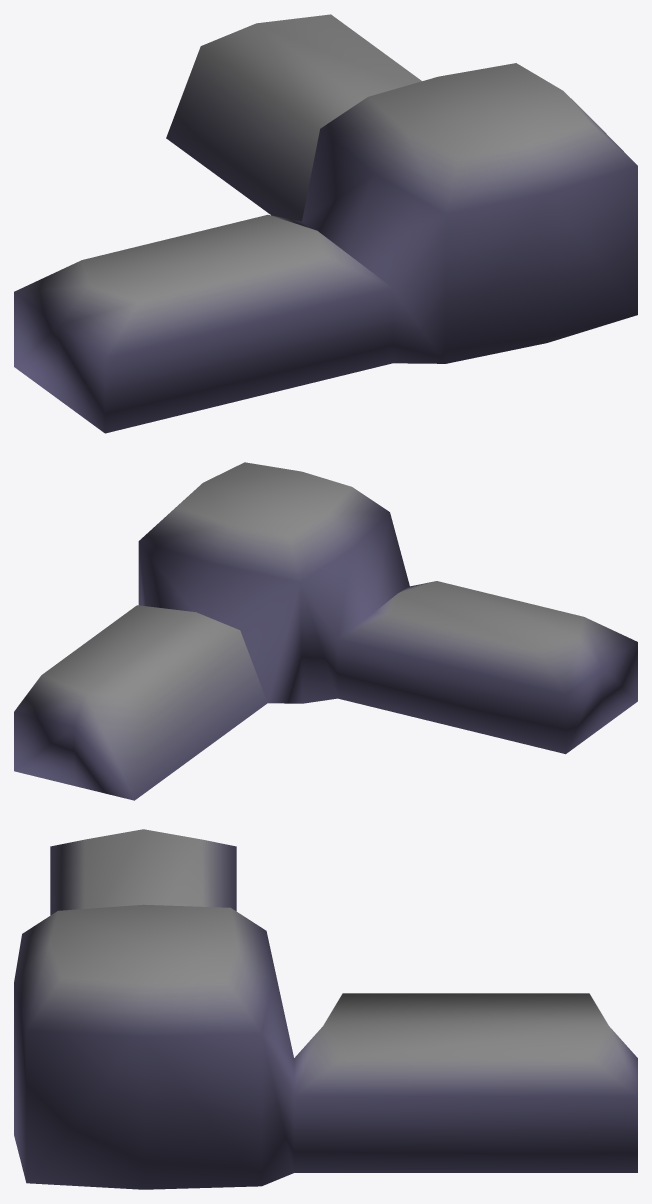
Rendered from edge_stone_ledge.fbx.
3 renders of one model, top to bottom at view 1: azimuth 30°, elevation 25°; view 2: azimuth 150°, elevation 25°; view 3: azimuth 270°, elevation 25°, orthographic. The views are drawn at different scales.
Parts seen in each view (by area): view 1: edge_stone_ledge; view 2: edge_stone_ledge; view 3: edge_stone_ledge.
Boxes of the visible parts, x1,y1,x2,y2 form: edge_stone_ledge: (14,14,637,433); edge_stone_ledge: (14,462,637,800); edge_stone_ledge: (14,829,637,1189).
Size of the model in its own units: 14.93 by 4.98 by 14.77.
